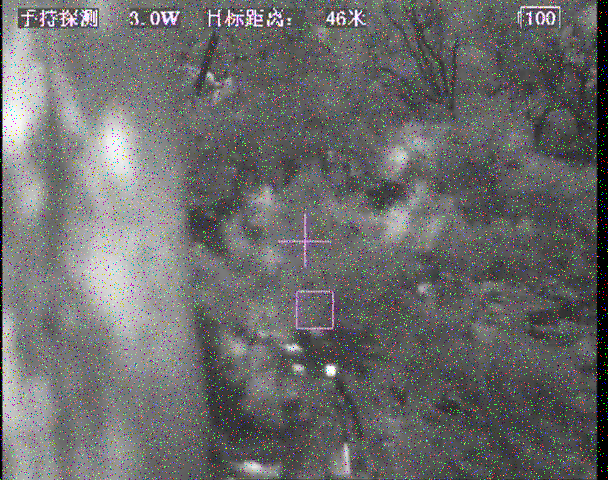my: (323, 365, 337, 377)
